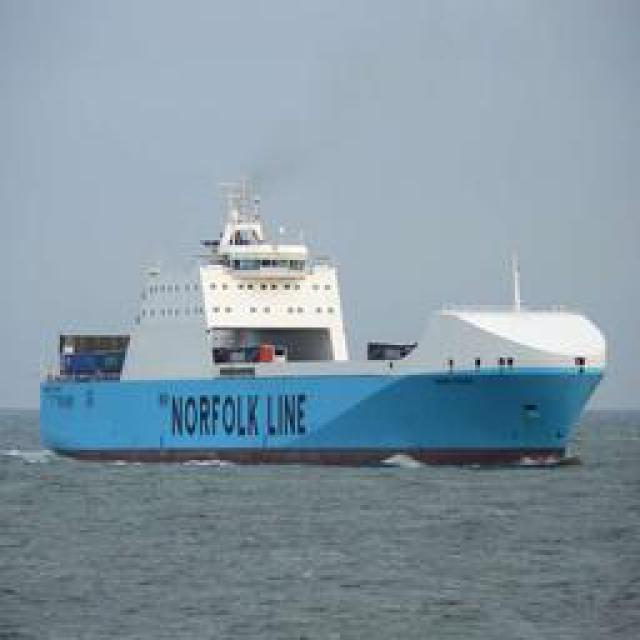Ship: (47, 175, 607, 460)
